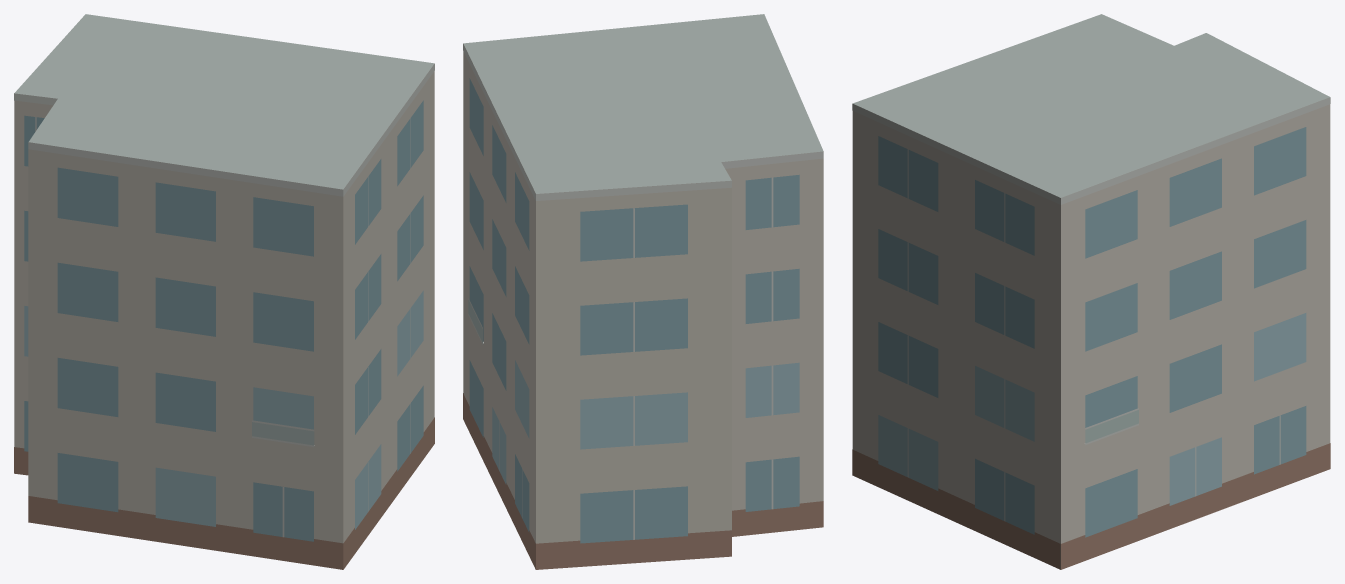
The model's file is survey-upis-32748303.glb.
3 renders of one model, left to right at view 1: azimuth 30°, elevation 25°; view 2: azimuth 150°, elevation 25°; view 3: azimuth 270°, elevation 25°, orthographic. The views are drawn at different scales.
Visible parts, largest first — view 1: survey-upis-32748303.tmp; view 2: survey-upis-32748303.tmp; view 3: survey-upis-32748303.tmp.
Boxes of the visible parts, x1=… form: survey-upis-32748303.tmp: x1=14, y1=14, x2=434, y2=569; survey-upis-32748303.tmp: x1=463, y1=14, x2=823, y2=569; survey-upis-32748303.tmp: x1=852, y1=14, x2=1330, y2=569.
Size of the model in its own units: 13.69 by 12.9 by 15.03.
